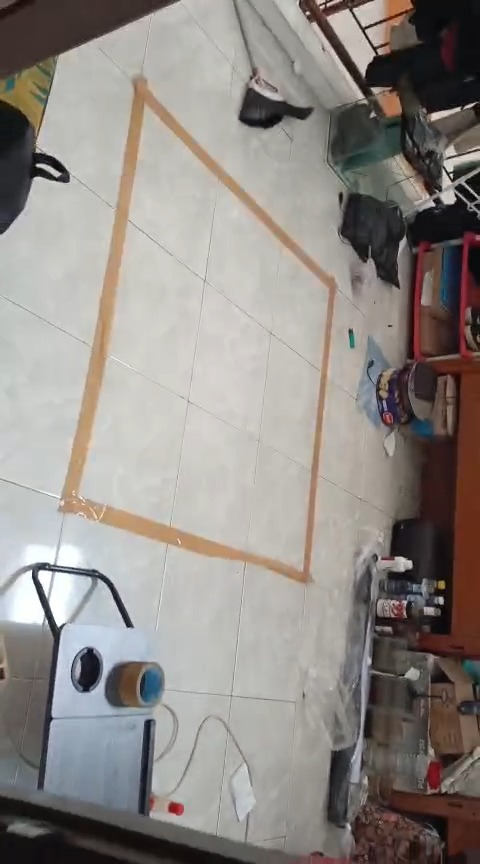floor marking: (59, 76, 334, 582)
